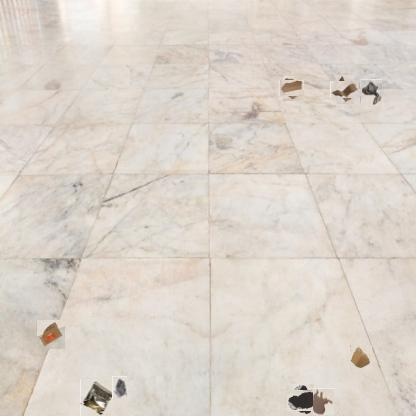dirty: (80, 378, 115, 416), (37, 320, 66, 349), (360, 79, 382, 106), (350, 345, 372, 371), (333, 78, 357, 101), (281, 78, 302, 99), (112, 376, 127, 399)
liquid: (290, 387, 316, 413), (314, 388, 336, 415)
